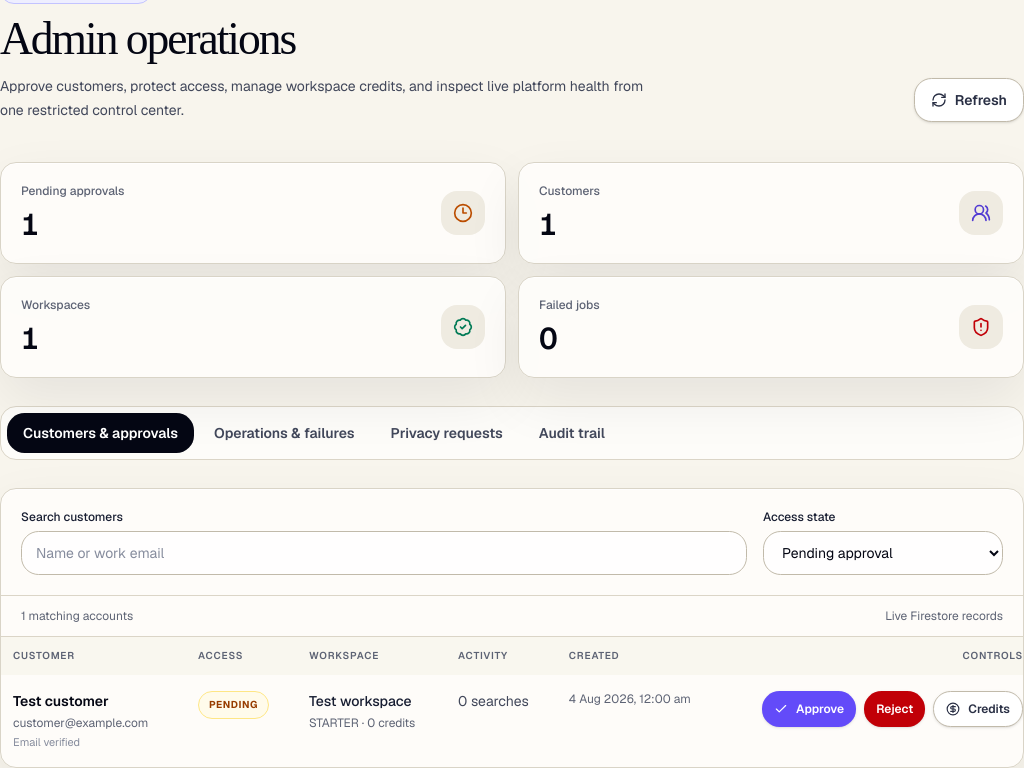
Test: admin operations › shows invalid amount and reason errors inside the credit dialog
(page scrolled)
Click the button "Credits" at [978, 709], box [933,691,1023,727]
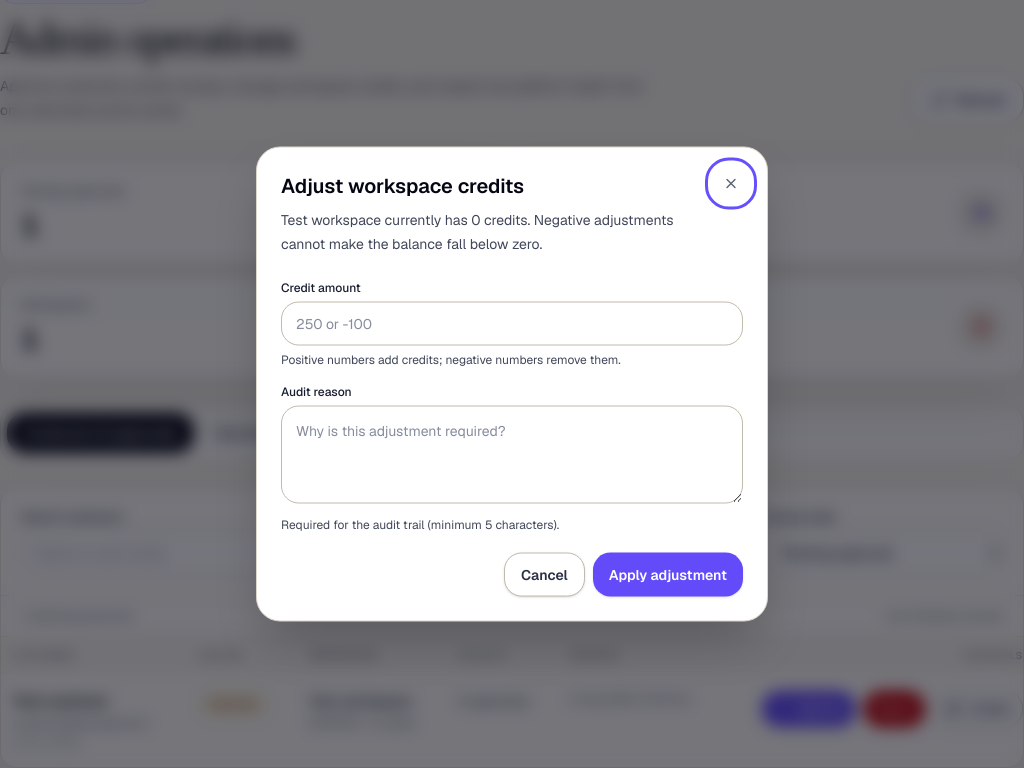
Type "0" into the number field labelled "Credit amount" at [512, 324], box [281,302,743,346]
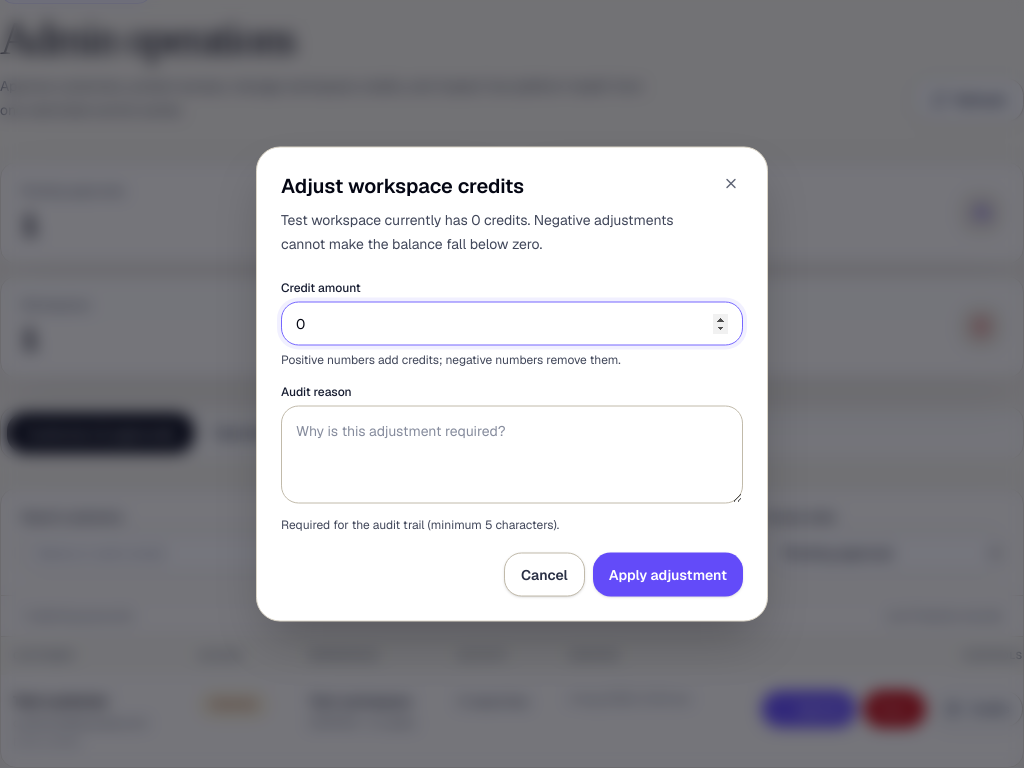
Type "k" into the text box labelled "Audit reason" at [512, 454], box [281,406,743,504]
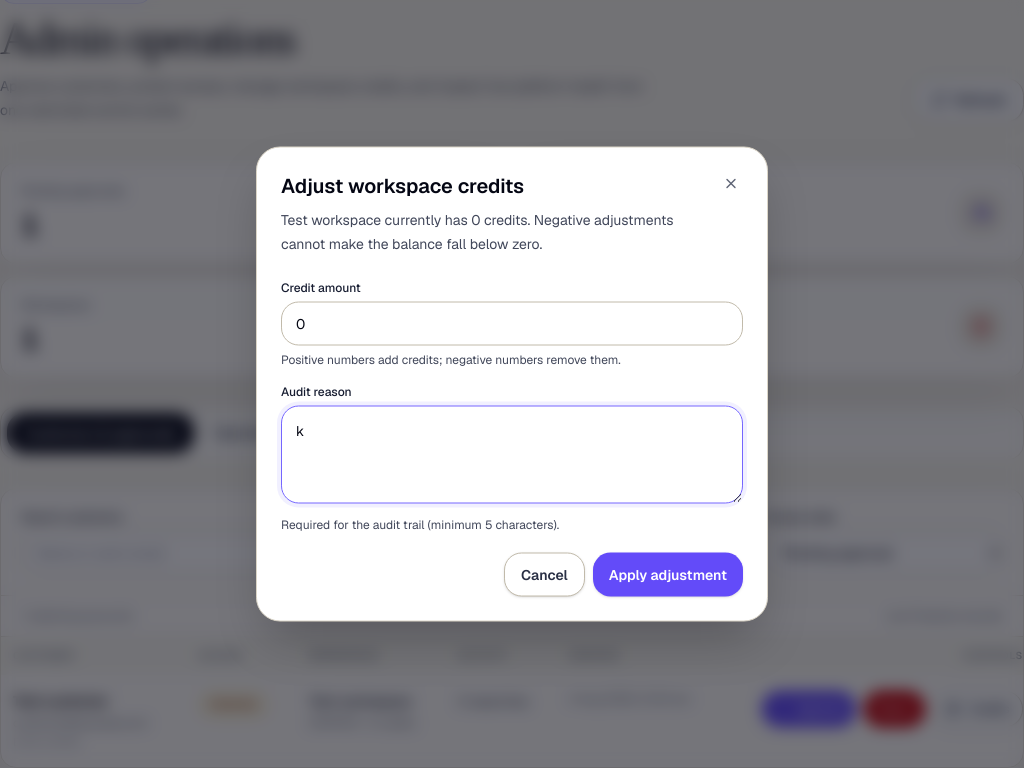
Click the button "Apply adjustment" at [668, 574], box [593,552,743,596]
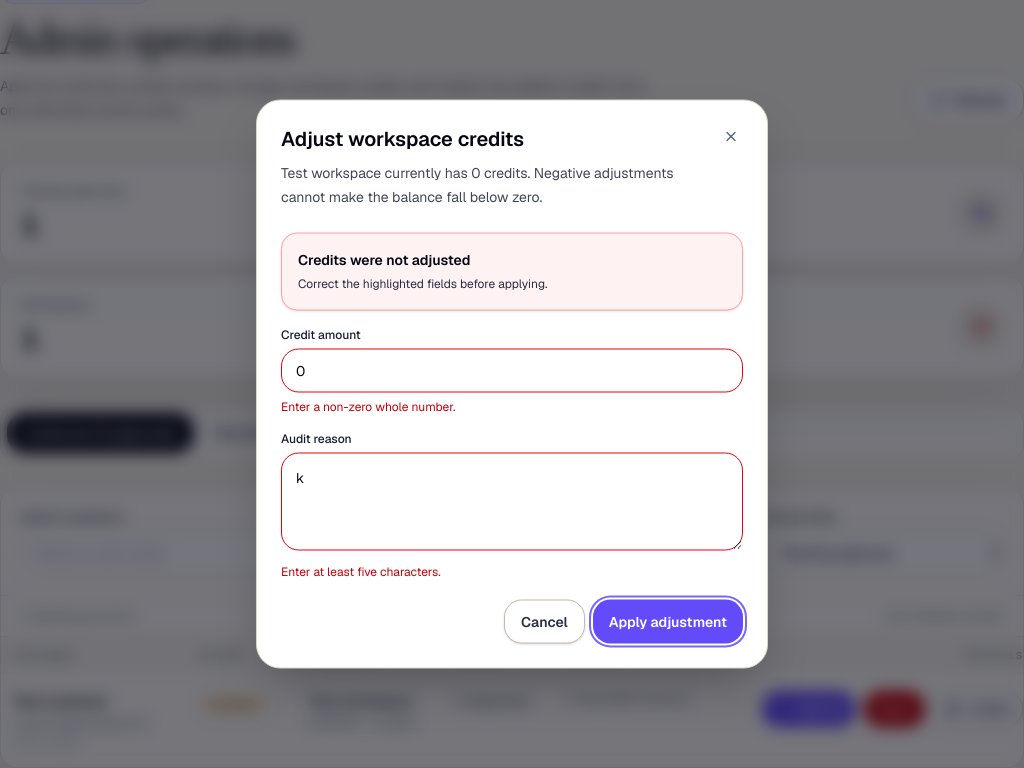
expect the text "Correct the highlighted fields before applying." is shown: met, box [298,274,548,294]
